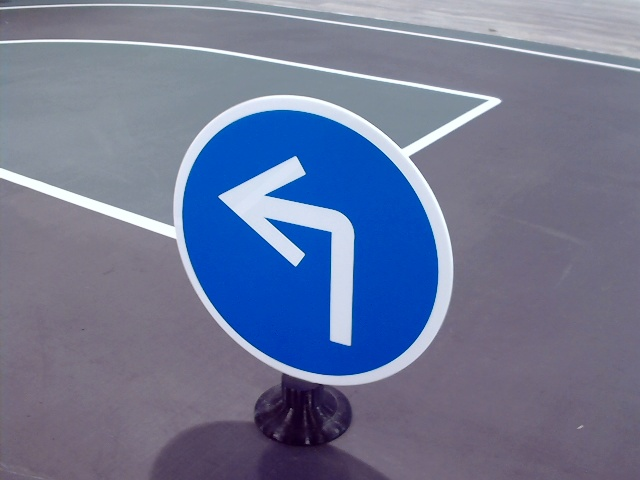turn_left: (214, 144, 378, 348)
